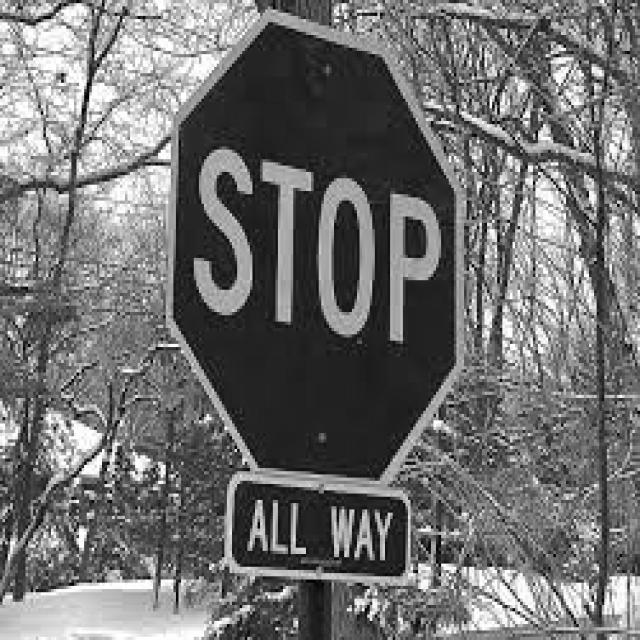stop sign: (180, 11, 462, 590)
